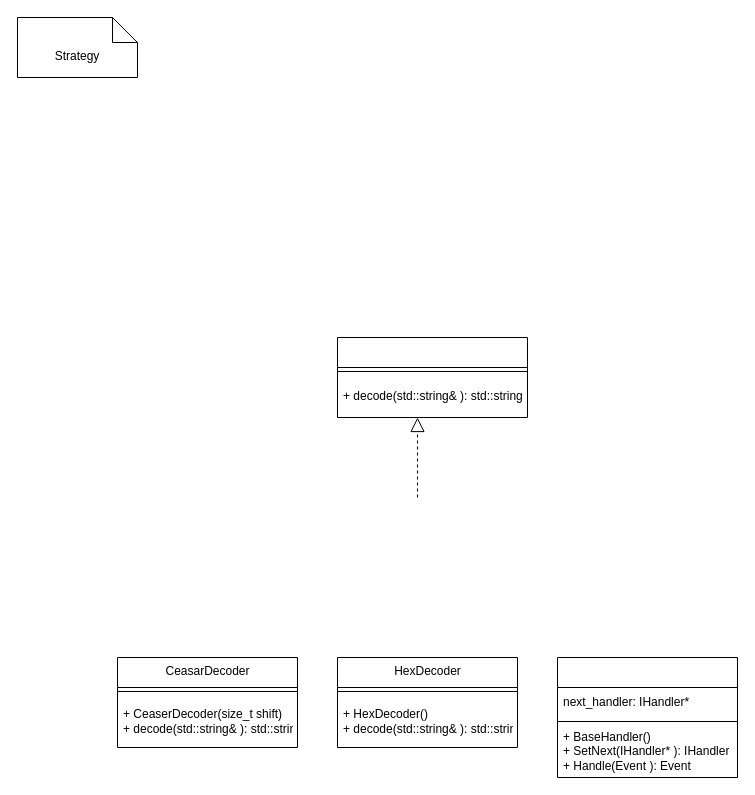
The diagram is 755 pixels wide and 795 high, and some of its shapes have lost their labels. The shapes that lost their labels are listed below. From the top down, each one's box as (x1, y1, x2, y2) in pixels, then its label:
(336, 336, 528, 418): IDecoder
(556, 656, 738, 778): Handler3
